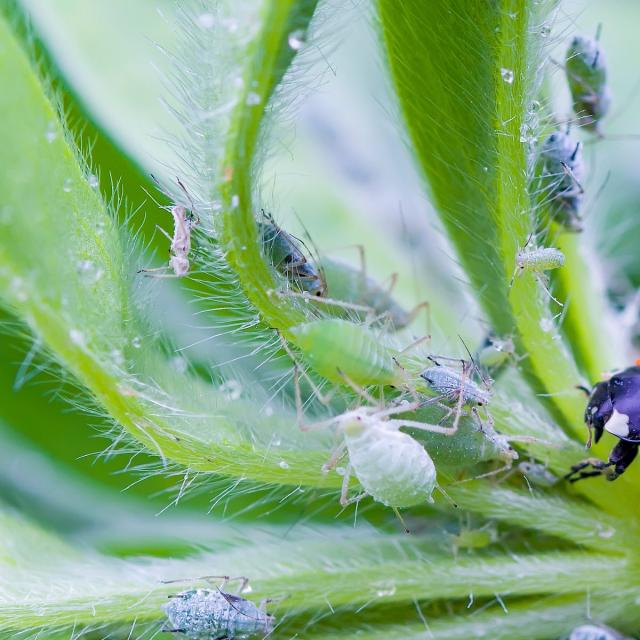Aphid-Grown-: (273, 368, 479, 529), (283, 298, 422, 404), (402, 346, 510, 419), (151, 580, 277, 637), (502, 230, 571, 288)
